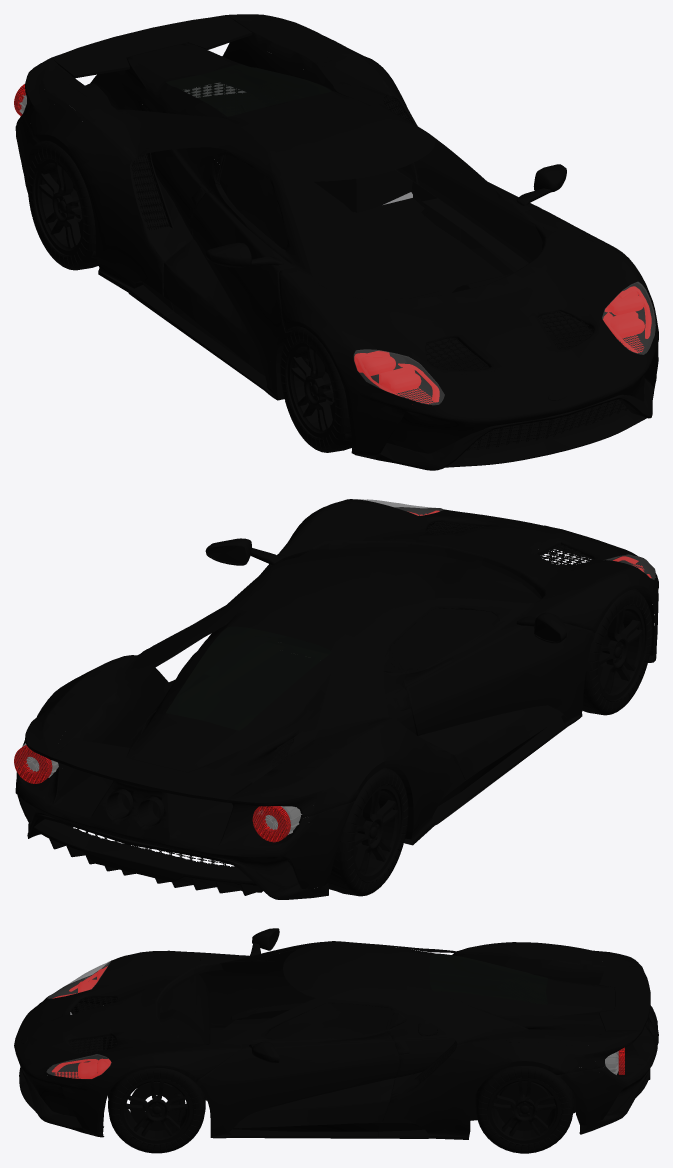
The model's file is ford__gt.glb.
The picture shows the model from 3 angles, top to bottom: view 1: azimuth 30°, elevation 25°; view 2: azimuth 150°, elevation 25°; view 3: azimuth 270°, elevation 25°; orthographic projection. The views are drawn at different scales.
Visible parts, largest first — view 1: Body2, Front_Glass, Right_Back_Tyre, Right_Front_Tyre, HeadLight_Glass, Back_glass, Front_Lights, Right_Glass, Left_Glass; view 2: Body2, Back_glass, Right_Back_Tyre, Right_Front_Tyre, Front_Glass, Right_Glass, Back_Light, HeadLight_Glass; view 3: Body2, Front_Glass, Left_Back_Tyre, Left_Front_Tyre, Back_glass, Left_Glass, HeadLight_Glass, Front_Lights, Back_Light.
Part boxes in pixels (<box>): Body2: <box>15,14,658,470</box>; Front_Glass: <box>282,141,542,299</box>; Right_Back_Tyre: <box>28,141,98,270</box>; Right_Front_Tyre: <box>280,326,351,452</box>; HeadLight_Glass: <box>354,282,655,404</box>; Back_glass: <box>166,64,331,116</box>; Front_Lights: <box>354,286,651,403</box>; Right_Glass: <box>219,154,287,250</box>; Left_Glass: <box>428,141,498,197</box>; Body2: <box>15,499,658,899</box>; Back_glass: <box>166,626,331,730</box>; Right_Back_Tyre: <box>306,767,408,896</box>; Right_Front_Tyre: <box>561,589,652,715</box>; Front_Glass: <box>283,546,541,603</box>; Right_Glass: <box>390,608,498,670</box>; Back_Light: <box>14,743,305,842</box>; HeadLight_Glass: <box>358,499,655,579</box>; Body2: <box>14,928,658,1139</box>; Front_Glass: <box>158,943,315,1043</box>; Left_Back_Tyre: <box>475,1066,573,1153</box>; Left_Front_Tyre: <box>108,1068,205,1153</box>; Back_glass: <box>429,953,547,1004</box>; Left_Glass: <box>266,1003,390,1039</box>; HeadLight_Glass: <box>46,961,111,1078</box>; Front_Lights: <box>52,966,111,1078</box>; Back_Light: <box>605,1047,624,1074</box>.
Size of the model in its own units: 2.47 by 1.21 by 5.21.
8 materials, 2 textured.
